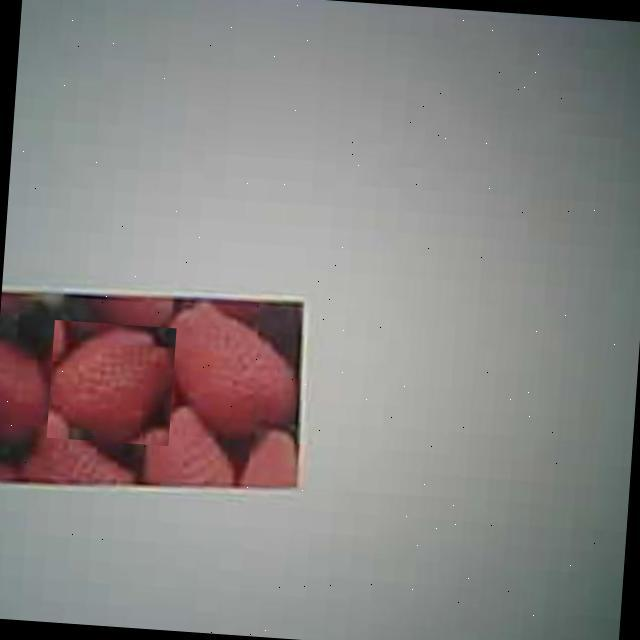ripe: (164, 298, 299, 439), (46, 320, 176, 446)
